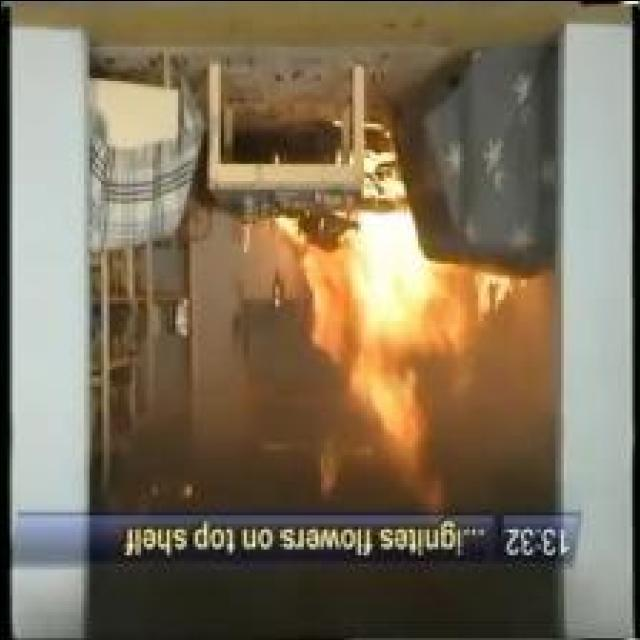Fire: (276, 214, 473, 508), (473, 272, 513, 314)
